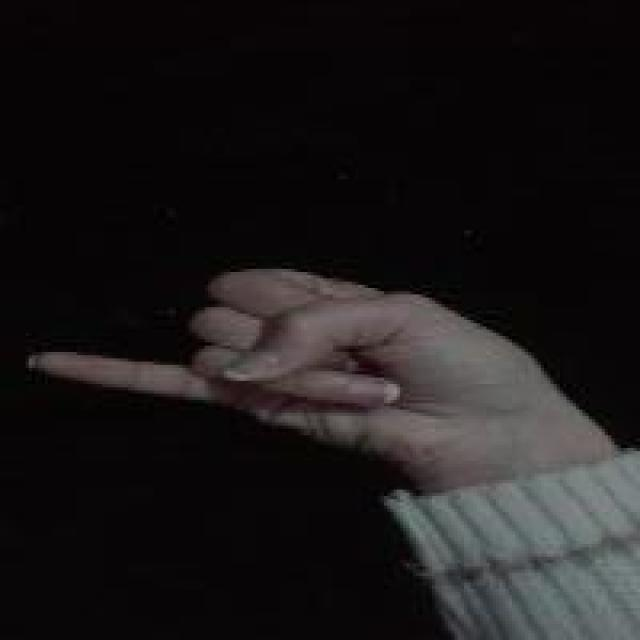J: (19, 245, 534, 459)
